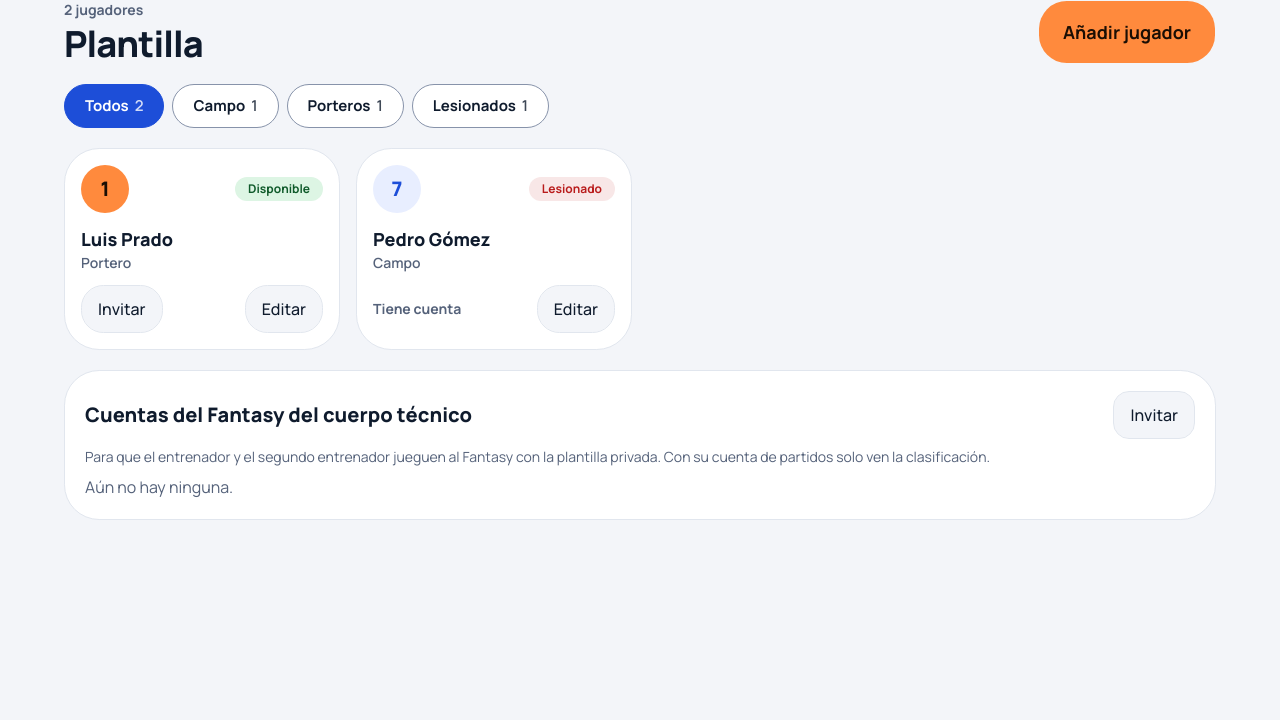
Test: PlantillaPage › el entrenador añade un jugador con alias
The width and height of the screenshot is (1280, 720).
Check: the text "Luis Prado" is shown, box 81,227 -> 173,251
Click the button "Añadir jugador". click: (1127, 32)
box: 1038,0 -> 1216,64
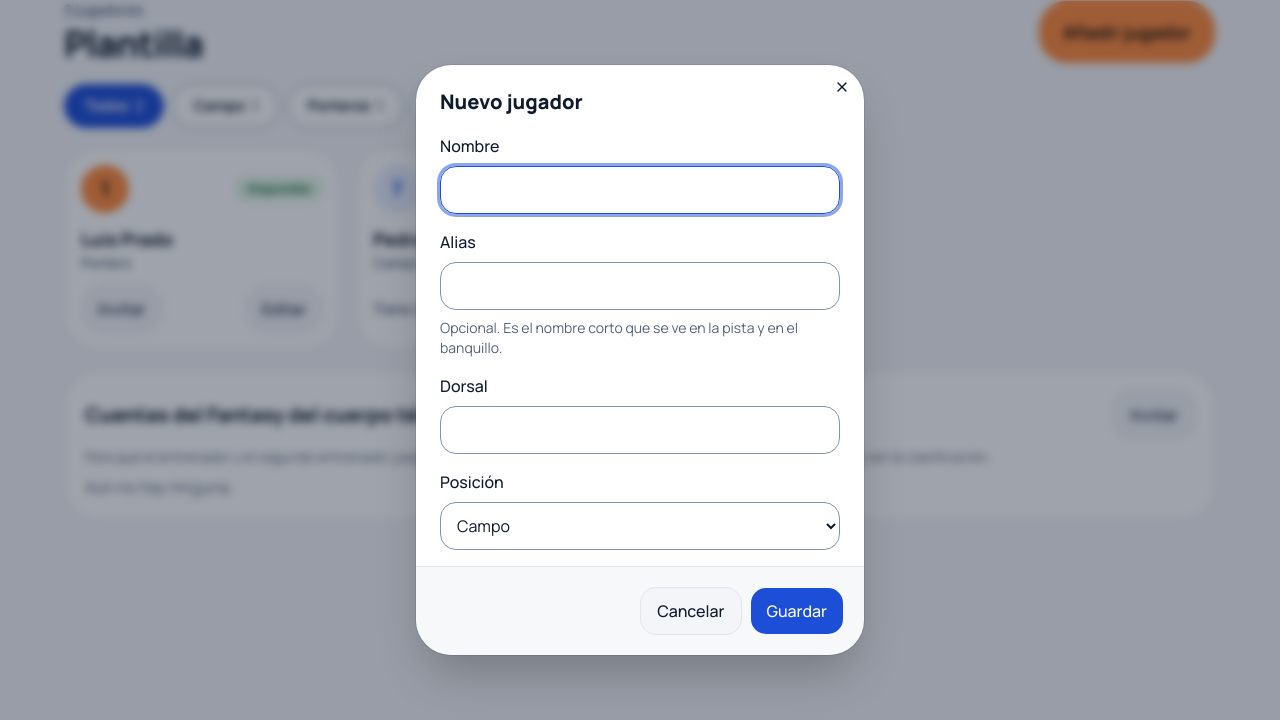
Type "Ana López" into the field labelled "Nombre". click: (640, 190)
box: 440,166 -> 840,214
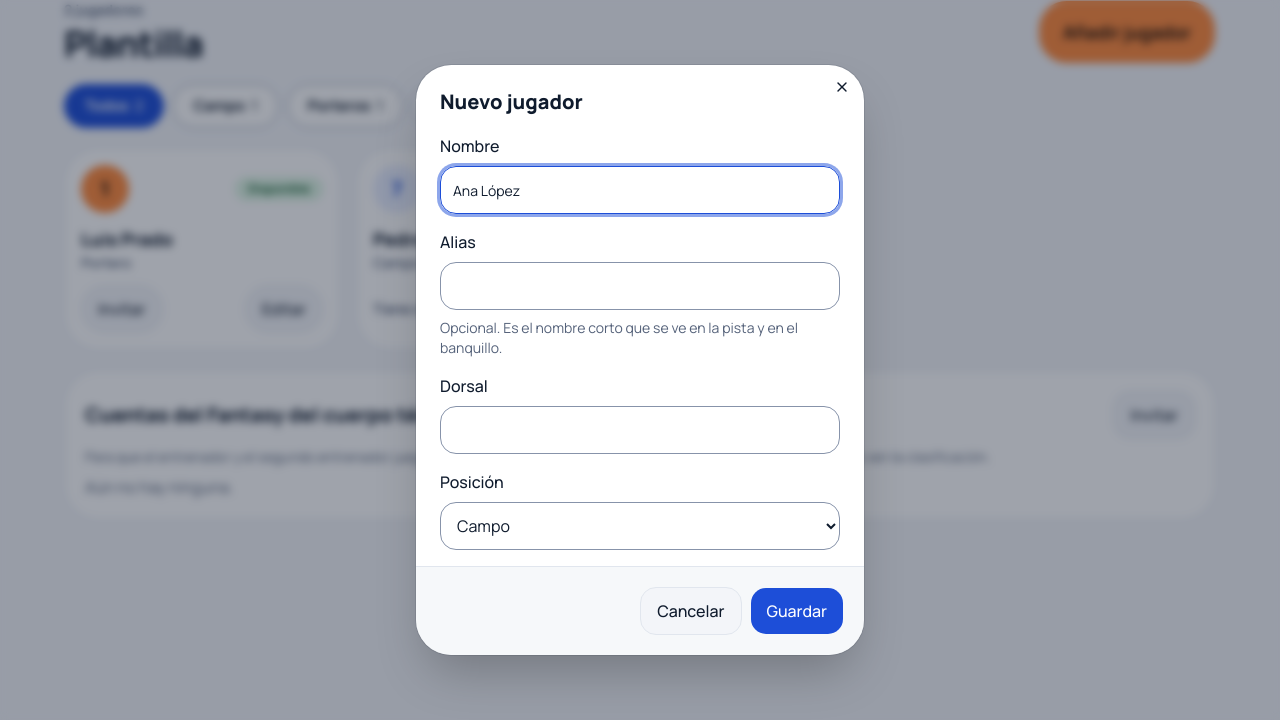
Type "Anita" into the field labelled "Alias". click: (640, 286)
box: 440,262 -> 840,310
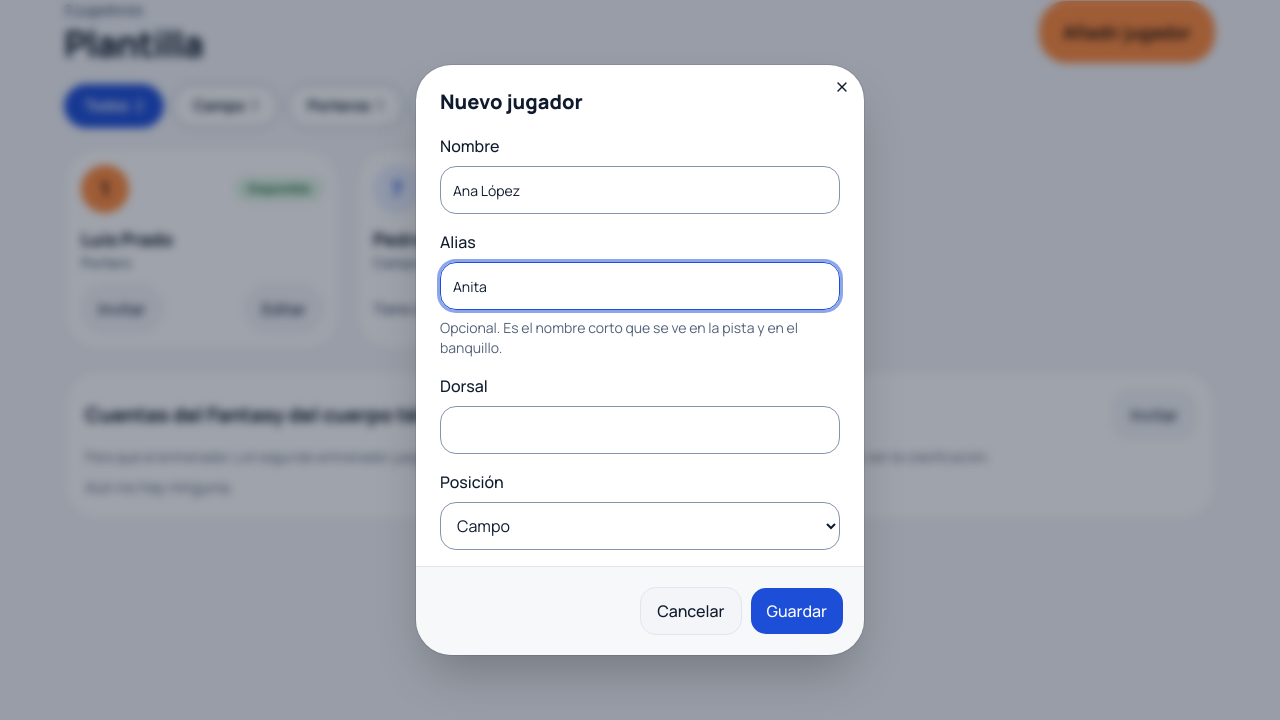
Type "10" into the field labelled "Dorsal". click: (640, 430)
box: 440,406 -> 840,454
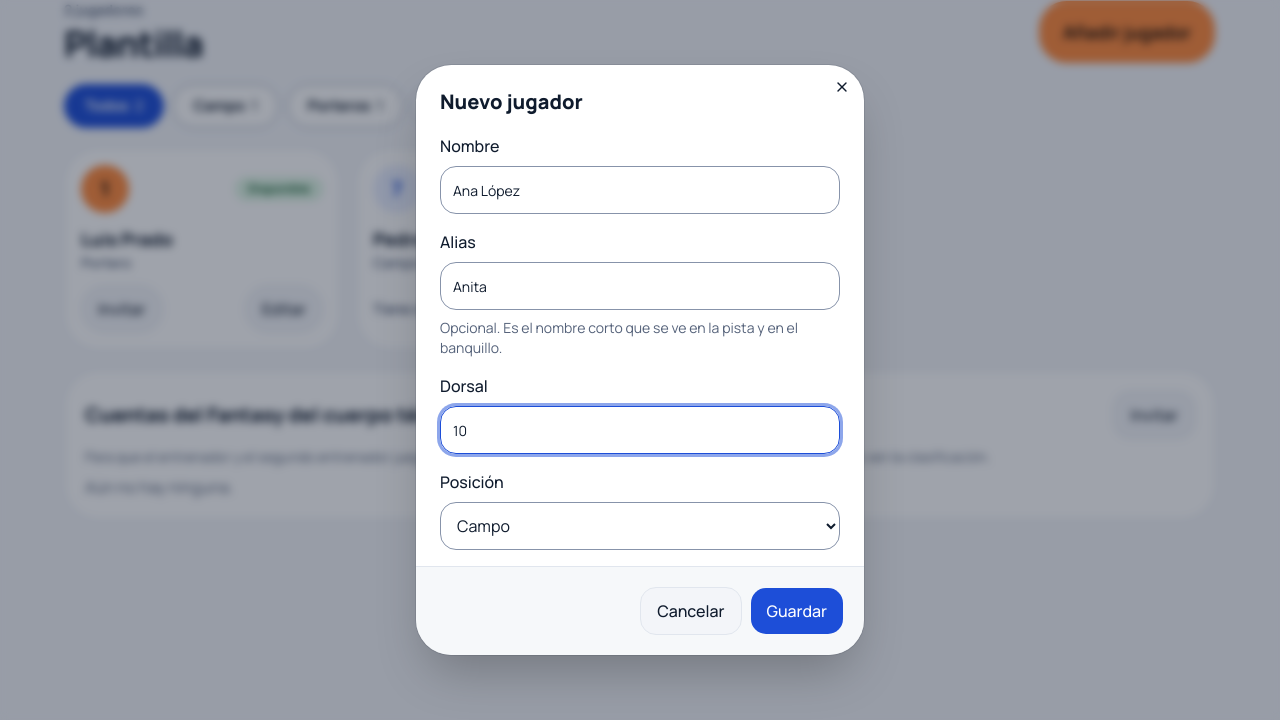
Click the button "Guardar". click: (797, 611)
box: 750,587 -> 844,635
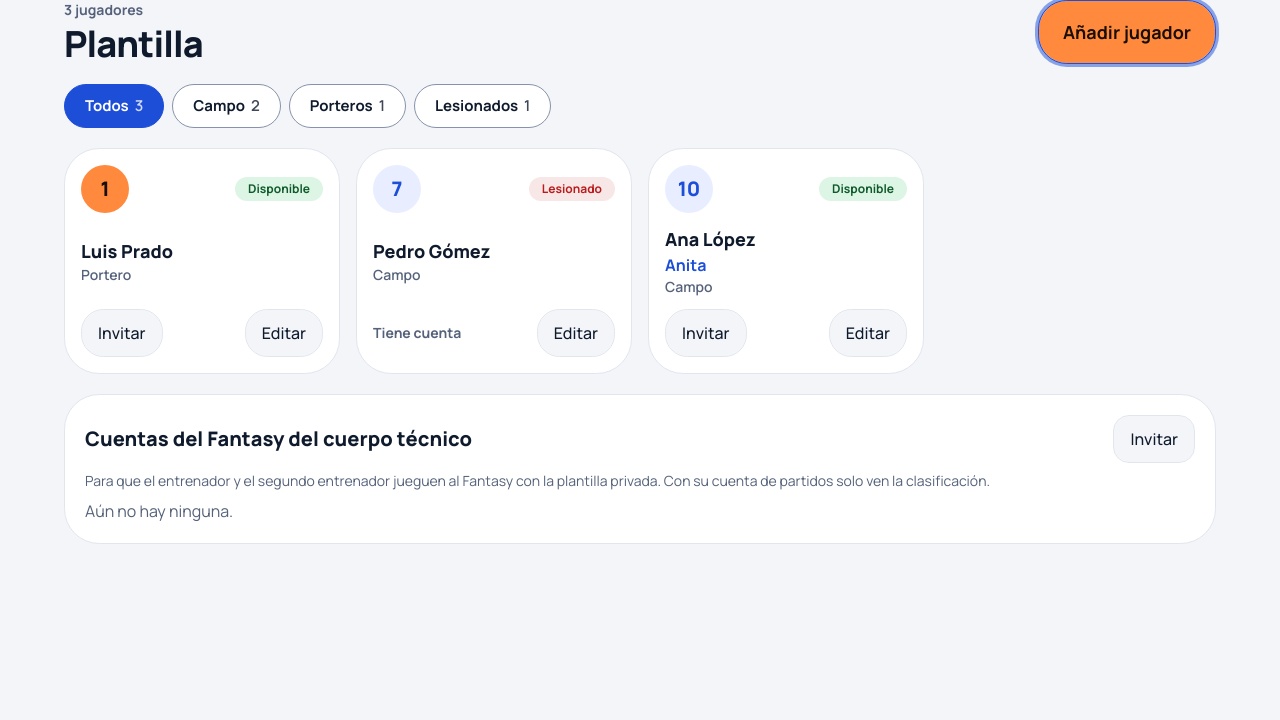
Check: the text "Anita" is shown, box 665,254 -> 706,276
